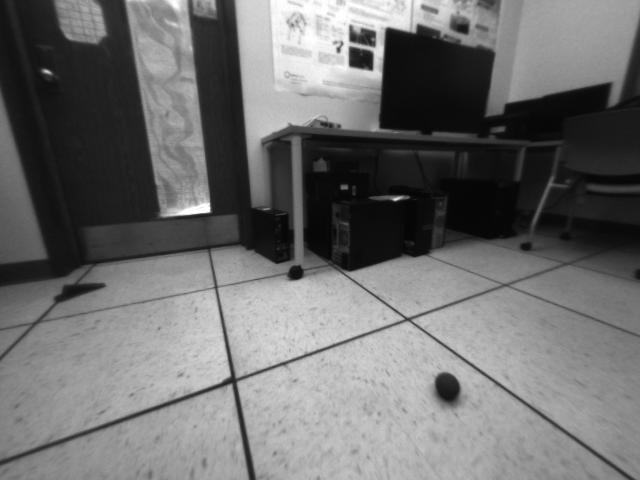dogtoy: (426, 362, 467, 411)
